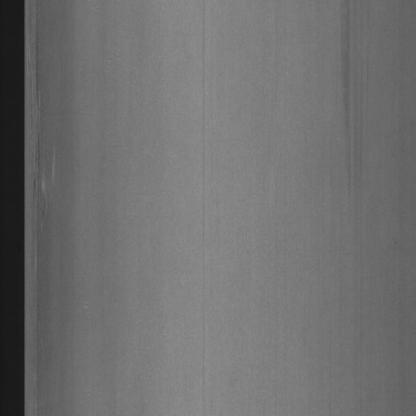silk_spot: (26, 31, 70, 264)
